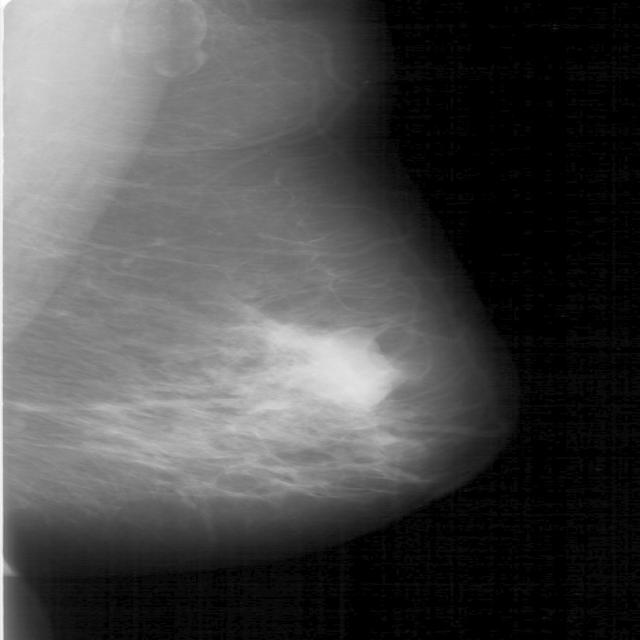tumour: (278, 324, 395, 407)
